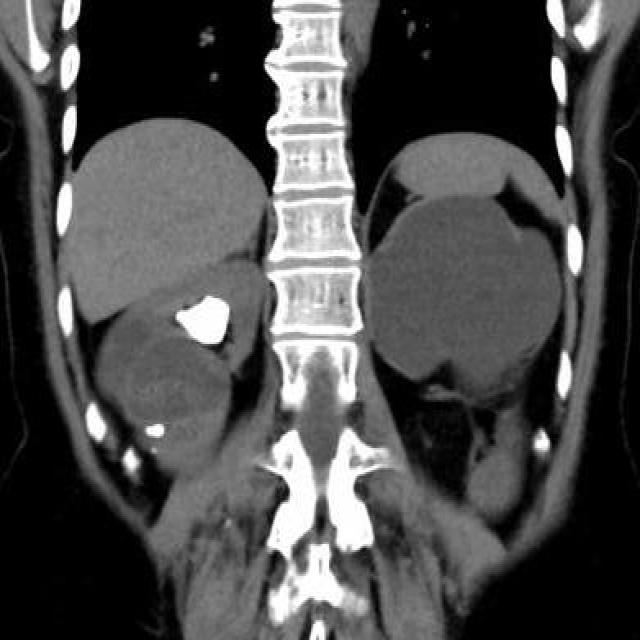Tas_Var: (174, 284, 233, 358), (144, 419, 167, 443), (150, 445, 158, 455)
